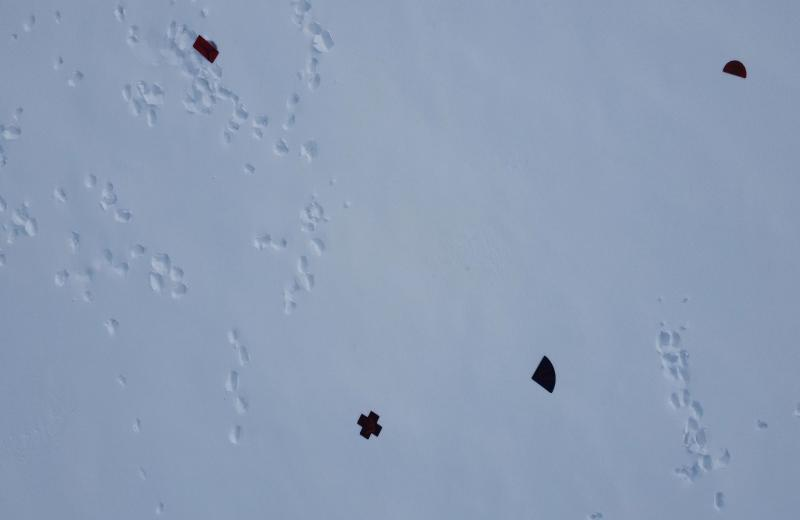Cross: (354, 411, 383, 443)
Quarter Circle: (528, 356, 557, 397)
Rectangle: (190, 32, 218, 66)
Semi Circle: (718, 58, 747, 83)
